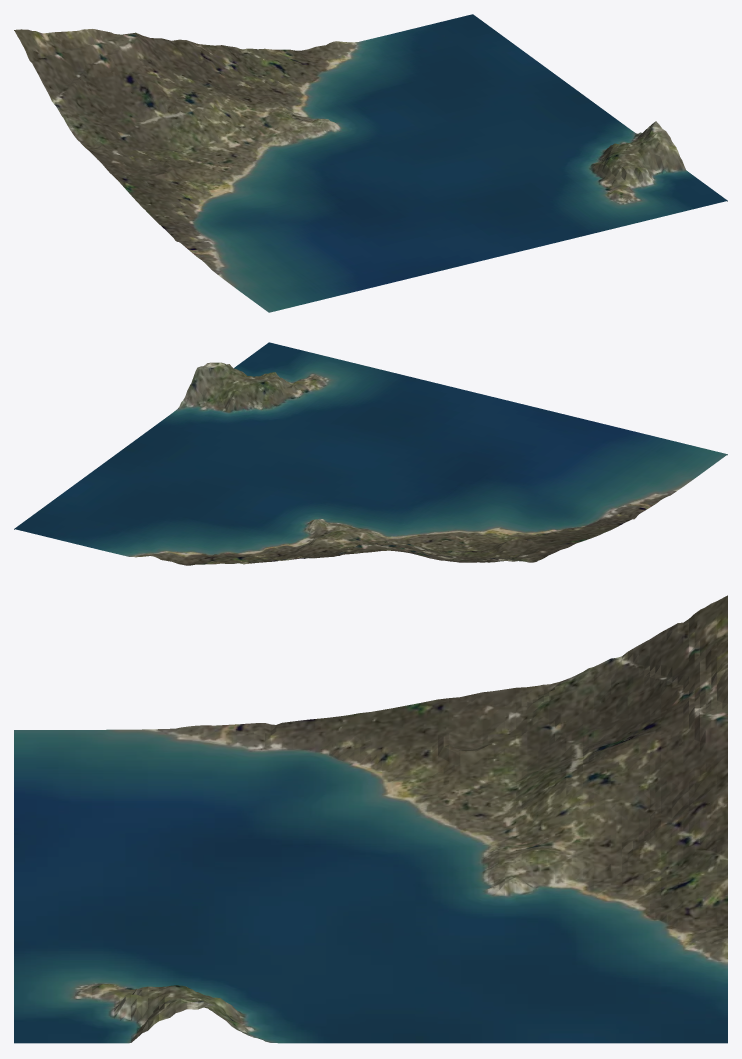
The picture shows the model from 3 angles, top to bottom: view 1: azimuth 30°, elevation 25°; view 2: azimuth 150°, elevation 25°; view 3: azimuth 270°, elevation 25°; orthographic projection. The views are drawn at different scales.
Bounding box in the file's own units: 500 × 101 × 481.
1 material, 1 textured.
